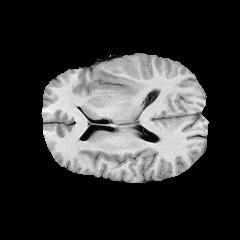glioma: (96, 66, 143, 95)
